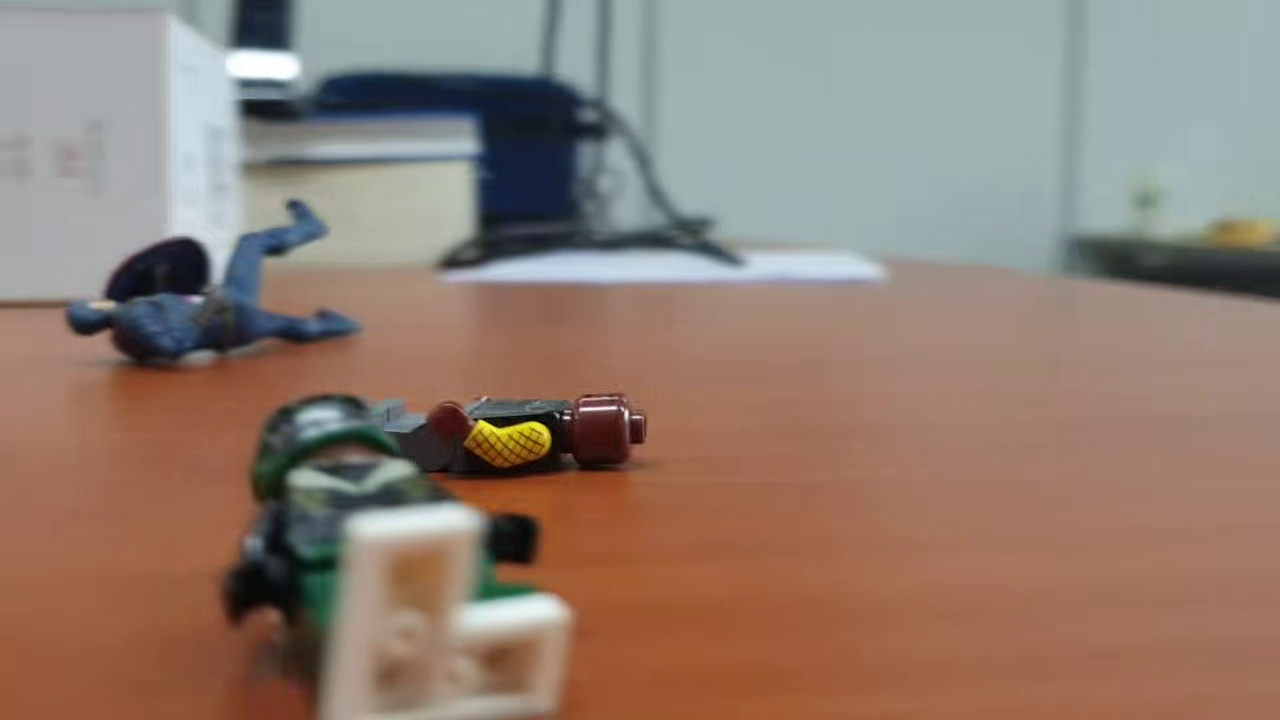people: (210, 390, 577, 720), (62, 190, 357, 375), (298, 390, 650, 481)
